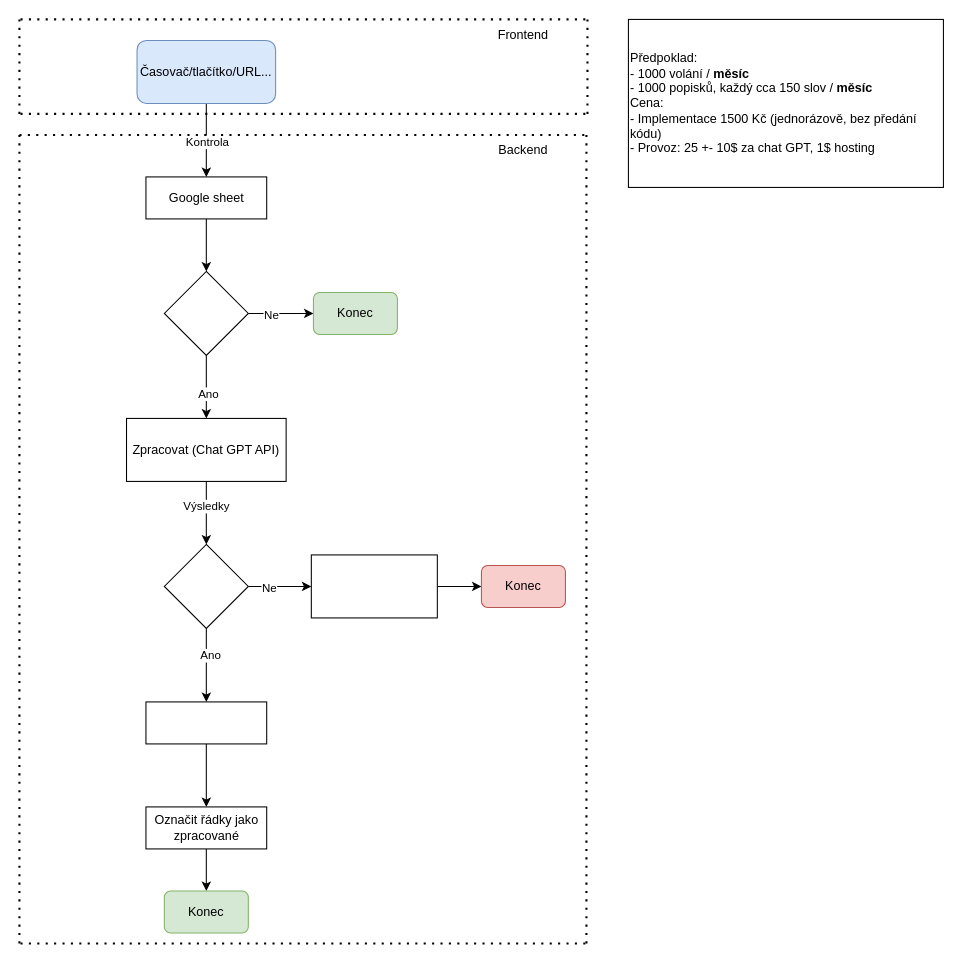
The diagram is 962 pixels wide and 963 high, and some of its shapes have lost their labels. The shapes that lost their labels are listed below. From the top down, each one's box as (x1, y1, x2, y2) in pixels, then its label:
(163, 270, 248, 355): Nové záznamy?
(163, 543, 248, 628): V pořádku?
(310, 554, 437, 618): Poslat e-mail (popis chyby)
(145, 701, 267, 744): Vložit výsledky Google sheet
